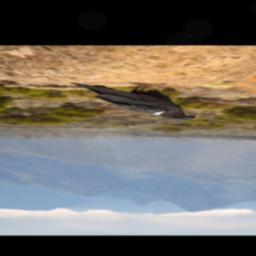Crow: (66, 80, 201, 121)
